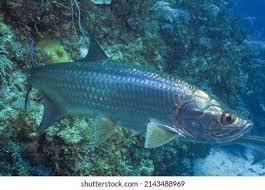Indo-Pacific Tarpon: (24, 30, 254, 149)
